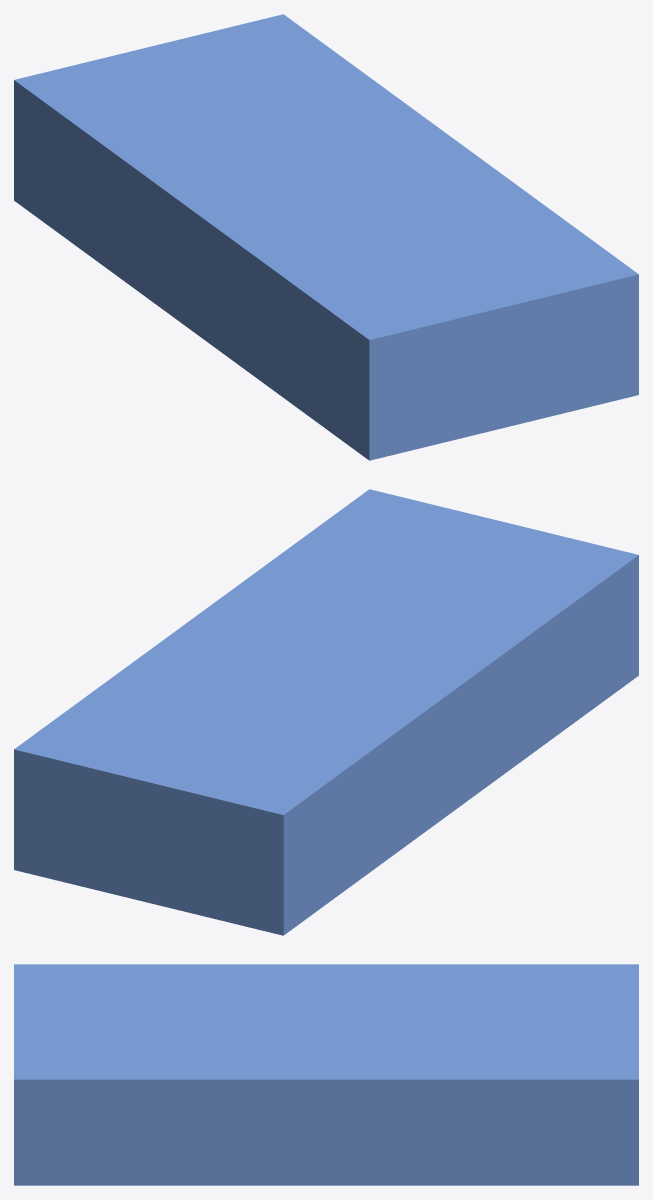
Rendered from Jabon02.fbx.
The picture shows the model from 3 angles, top to bottom: view 1: azimuth 30°, elevation 25°; view 2: azimuth 150°, elevation 25°; view 3: azimuth 270°, elevation 25°; orthographic projection. The views are drawn at different scales.
Parts seen in each view (by area): view 1: Jabon02; view 2: Jabon02; view 3: Jabon02.
Boxes of the visible parts, bbox=[...] form: Jabon02: bbox=[14, 14, 638, 460]; Jabon02: bbox=[14, 489, 638, 935]; Jabon02: bbox=[14, 964, 638, 1185].
Bounding box in the file's own units: 5.89 × 2.52 × 13.47.
